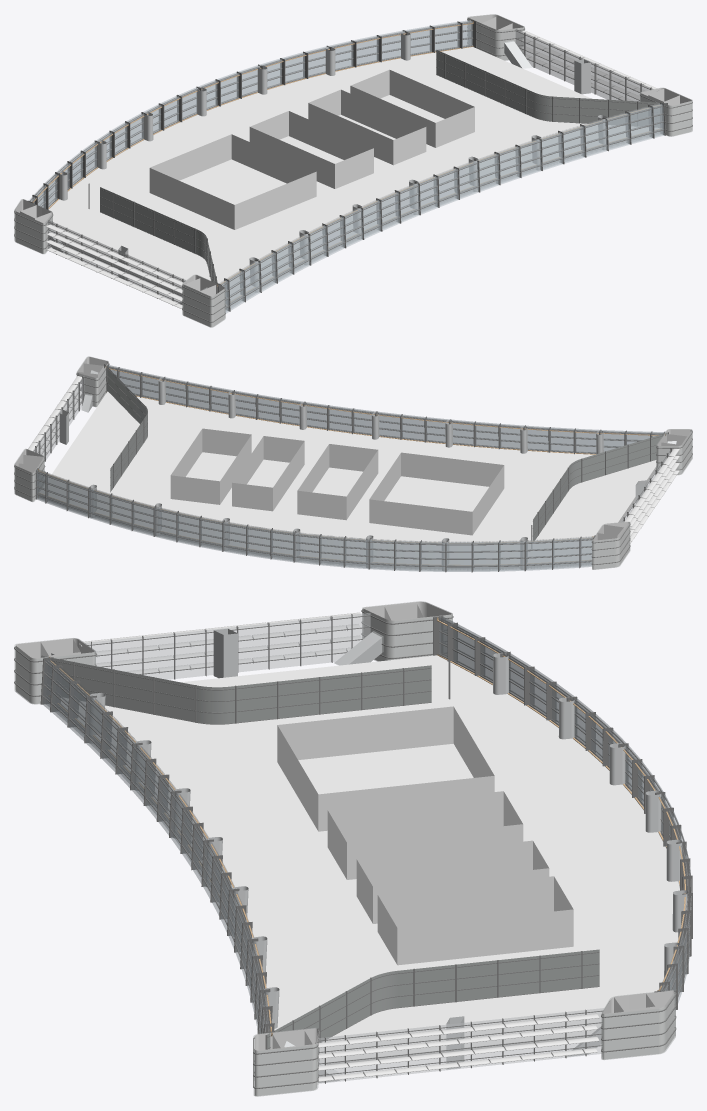
The picture shows the model from 3 angles, top to bottom: view 1: azimuth 30°, elevation 25°; view 2: azimuth 150°, elevation 25°; view 3: azimuth 270°, elevation 25°; orthographic projection. The views are drawn at different scales.
Parts seen in each view (by area): view 1: floor.039; view 2: floor.039; view 3: floor.039.
Boxes of the visible parts, x1,y1,x2,y2 form: floor.039: (14, 14, 692, 327); floor.039: (14, 356, 692, 572); floor.039: (14, 601, 692, 1096).
Size of the model in its own units: 82.02 by 3.88 by 52.26.
14 materials, 1 textured.
